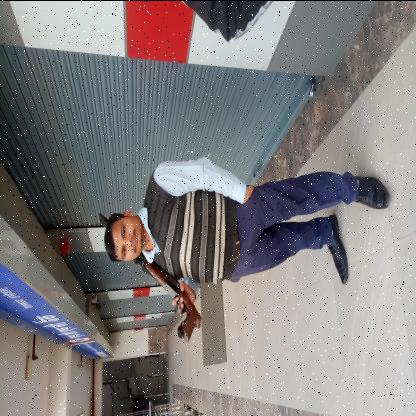rifle: (96, 208, 204, 344)
